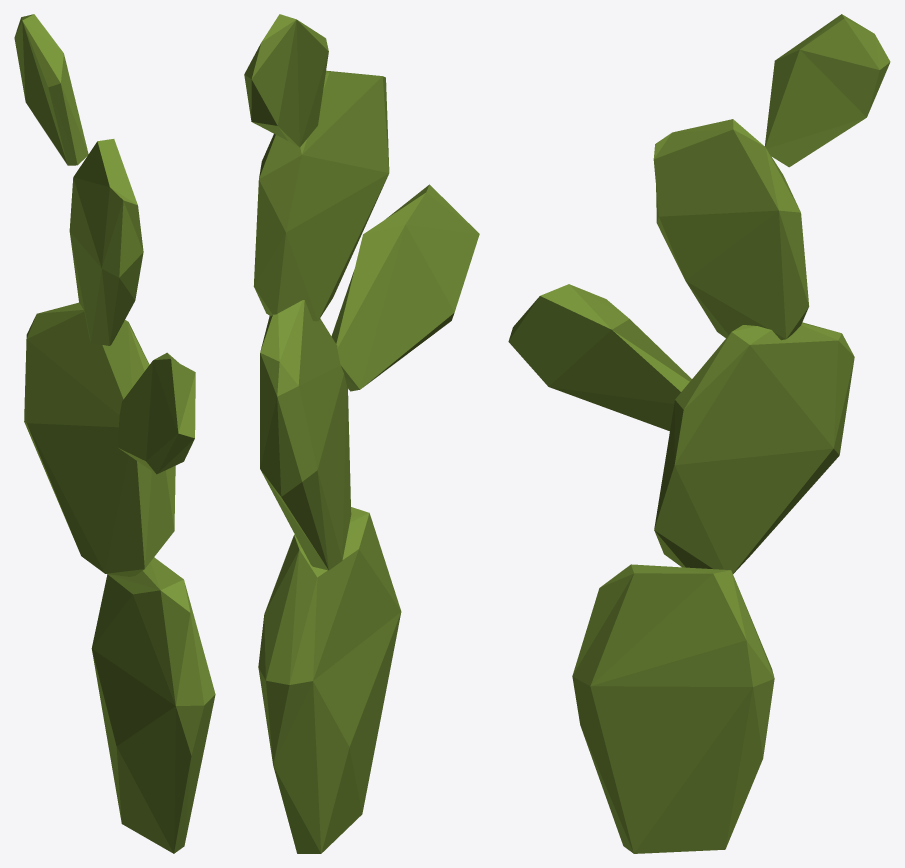
File: west_tree07.FBX
3 views of the same model, side by side, from view 1: azimuth 30°, elevation 25°; view 2: azimuth 150°, elevation 25°; view 3: azimuth 270°, elevation 25° (orthographic). The views are drawn at different scales.
Visible parts, largest first — view 1: west_tree07; view 2: west_tree07; view 3: west_tree07.
Boxes of the visible parts, x1=… form: west_tree07: x1=14, y1=14, x2=215, y2=853; west_tree07: x1=244, y1=14, x2=479, y2=853; west_tree07: x1=508, y1=14, x2=890, y2=853.
Bounding box in the file's own units: 119 × 1073 × 459.
